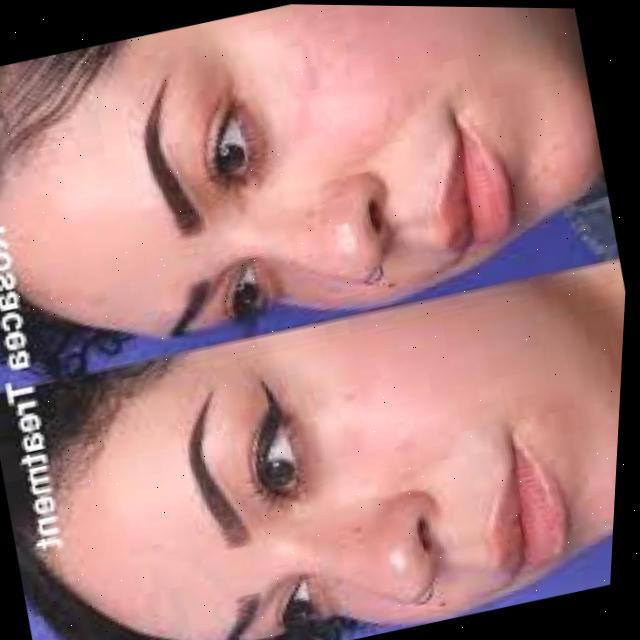Rosacea: (247, 4, 462, 195), (284, 346, 468, 502), (289, 500, 413, 615), (280, 193, 371, 289)
